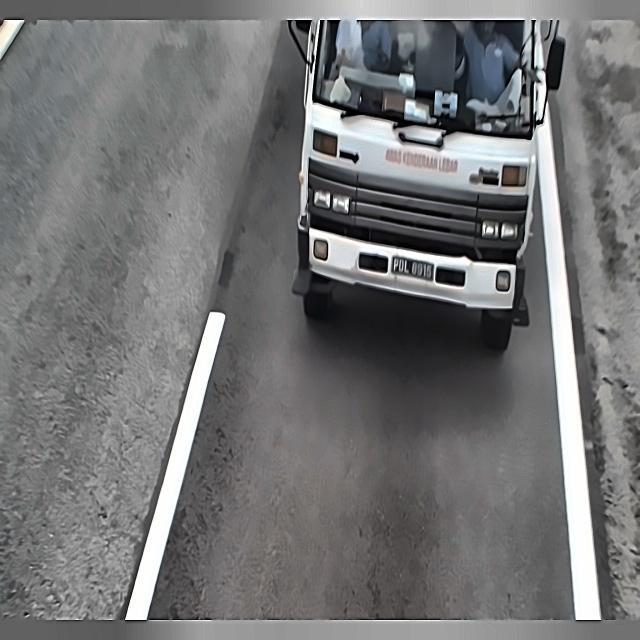car: (386, 243, 440, 292)
